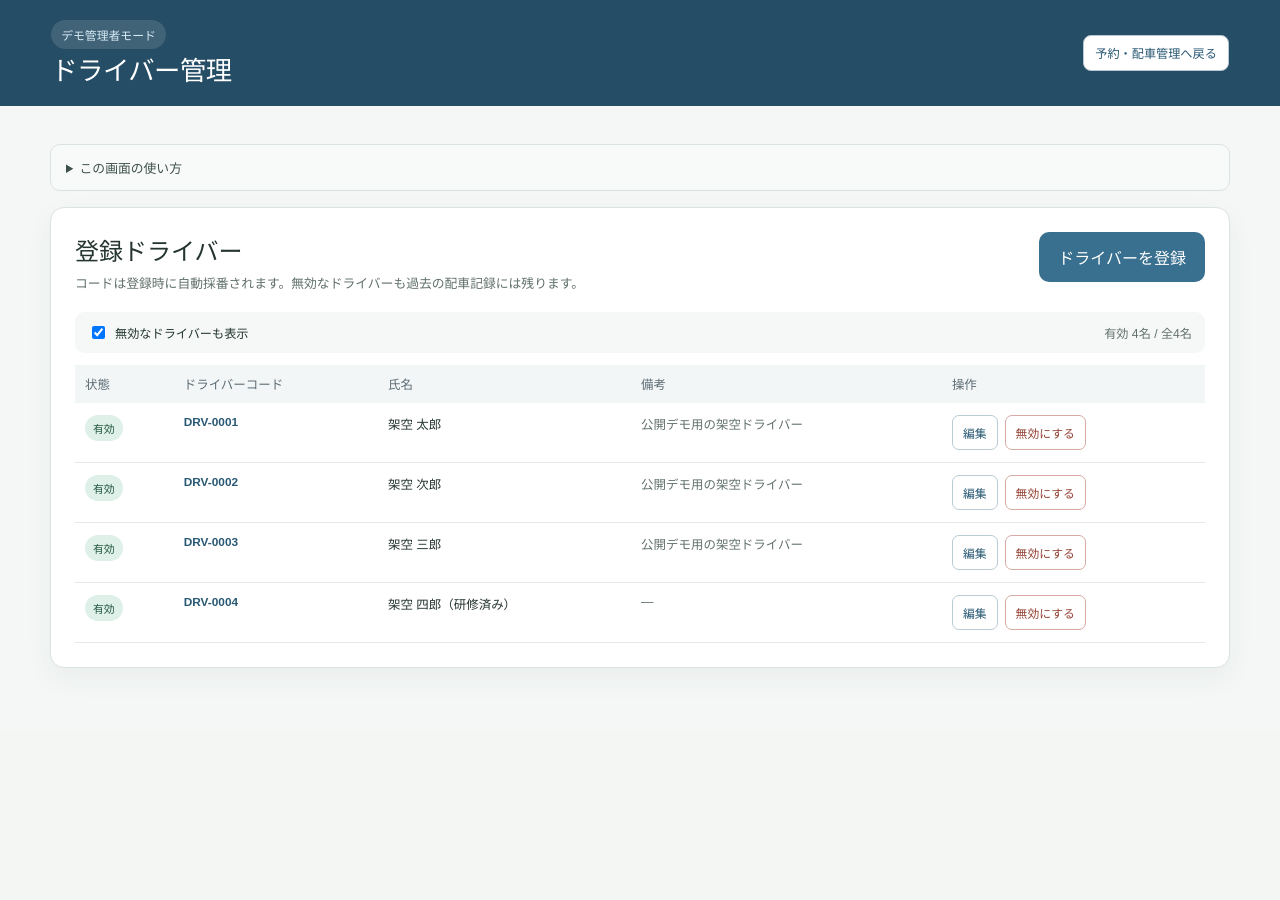
Test: ドライバー管理画面 › 未完了の配車があるドライバーは無効にできない
Step 1. Click the button "無効にする" in the row of "DRV-0001" → (1045, 433), box [1005,415,1086,450]
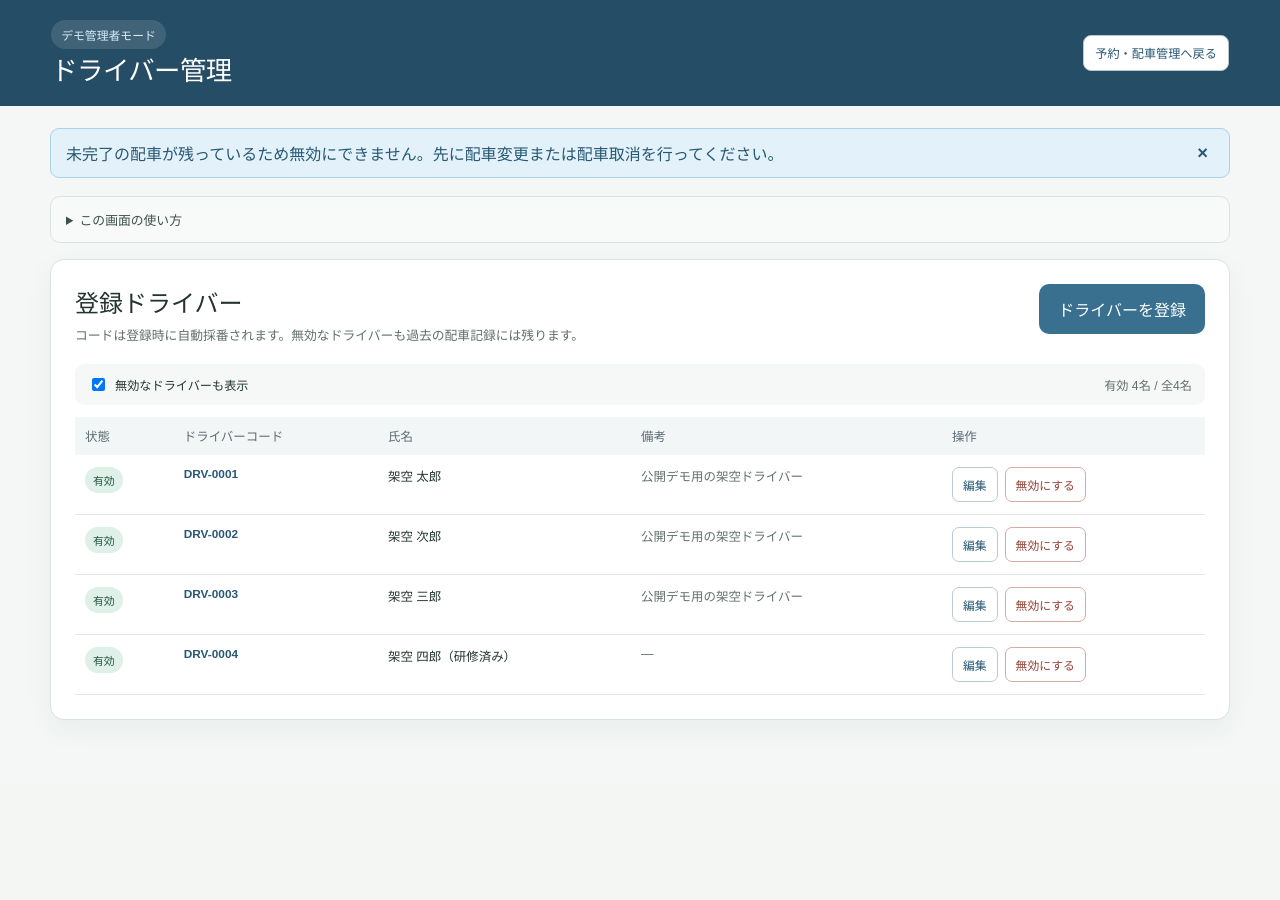
Expected: the text "有効" next to "DRV-0001" is shown, [93,475,115,487]
Expected: the text "未完了の配車が残っているため無効にできません。先に配車変更または配車取消を行ってください。 ×" is shown, [50,128,1230,178]
